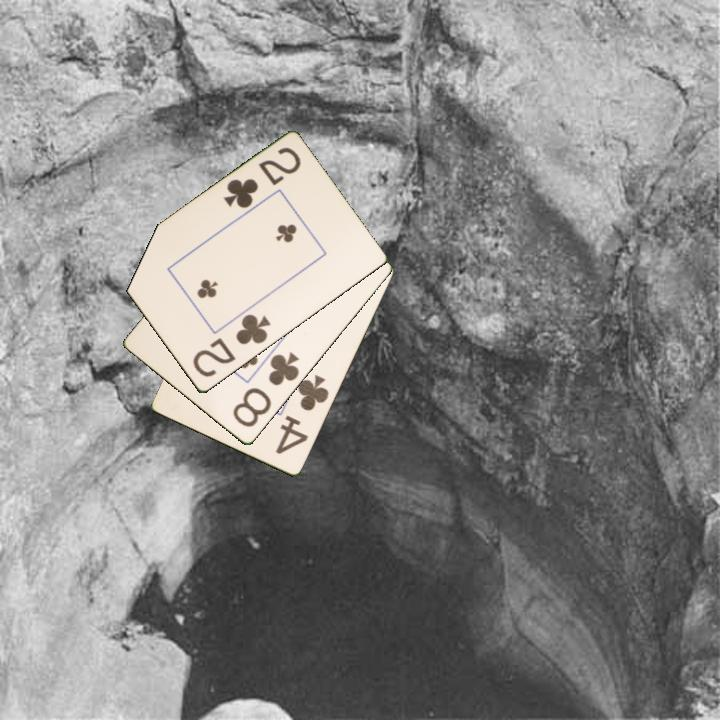2c: (189, 311, 274, 381), (220, 144, 304, 212)
4c: (272, 371, 332, 457)
8c: (229, 349, 302, 431)
